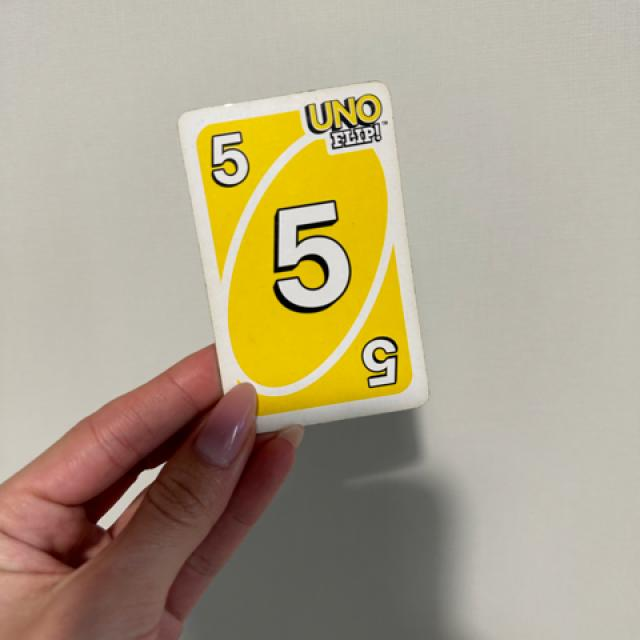lyellow-5: (194, 115, 274, 204)
